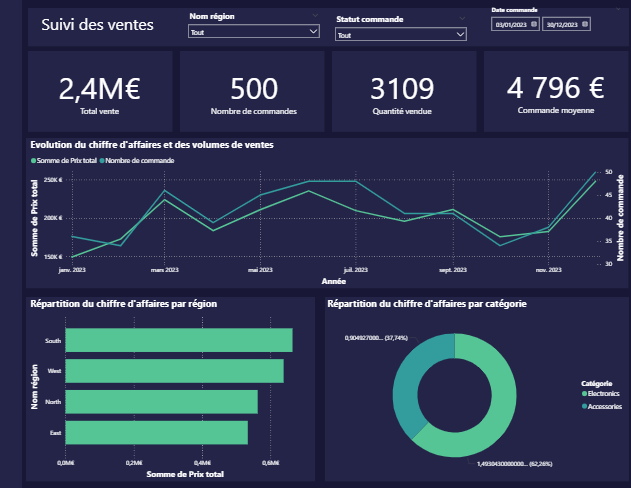

The page's visual inventory and layout, read from the dashboard file:
{"tool":"powerbi","page":{"name":"Suivi de ventes","canvas":[1280,2000],"ordinal":0},"visuals":[{"type":"shape","box":[9.9,0,43.9,1512.5],"z":0},{"type":"shape","box":[65.2,17,1202,76.5],"z":1000},{"type":"shape","box":[65.2,103.5,289.2,161.6],"z":2000},{"type":"shape","box":[370,103.5,289.2,161.6],"z":3000},{"type":"shape","box":[673.3,103.5,289.2,161.6],"z":4000},{"type":"shape","box":[978.1,103.5,289.2,161.6],"z":5000},{"type":"shape","box":[62.4,277.8,1204.9,300.5],"z":6000},{"type":"shape","box":[62.4,595.3,578.3,368.5],"z":7000},{"type":"shape","box":[659.1,595.3,608.1,368.5],"z":8000},{"type":"shape","box":[65.2,979.5,1209.1,533],"z":9000},{"type":"textbox","box":[87.9,21.3,552.8,66.6],"z":10000},{"type":"card","fields":{"Values":["Clients.Total vente"]},"box":[65.2,103.5,286.3,161.6],"z":11000},{"type":"card","fields":{"Values":["ventes.Nombre de commande"]},"box":[375.6,103.5,283.5,161.6],"z":12000},{"type":"card","fields":{"Values":["ventes.Commande moyenne"]},"box":[983.7,102.1,276.4,161.6],"z":13000},{"type":"card","fields":{"Values":["ventes.Quantité vendue"]},"box":[666.2,103.5,296.3,161.6],"z":14000},{"type":"lineChart","title":"Evolution du chiffre d''affaires et des volumes de ventes","fields":{"Category":["ventes.Date commande.Variation.Hiérarchie de dates.Année","ventes.Date commande.Variation.Hiérarchie de dates.Trimestre","ventes.Date commande.Variation.Hiérarchie de dates.Mois"],"Y":["Sum(ventes.Prix total)"],"Y2":["Mesures.Nombre de commande"]},"box":[65.2,277.8,1202,300.5],"z":15000},{"type":"barChart","title":"Répartition du chiffre d''affaires par région","fields":{"Category":["Régions.Nom région"],"Y":["Sum(ventes.Prix total)"]},"box":[65.2,595.3,575.5,368.5],"z":16000},{"type":"donutChart","title":"Répartition du chiffre d''affaires par catégorie","fields":{"Category":["Produits.Catégorie"],"Y":["Sum(ventes.Prix total)"]},"box":[659.1,595.3,608.1,368.5],"z":17000},{"type":"tableEx","fields":{"Values":["ventes.Date commande","Clients.Nom client","Produits.Nom produit","Produits.Catégorie","Sum(ventes.Prix total)","ventes.Statut commande"]},"box":[65.2,979.5,1202,533],"z":18000},{"type":"slicer","fields":{"Values":["Régions.Nom région"]},"box":[375.6,18.4,283.5,72.3],"z":19000},{"type":"slicer","fields":{"Values":["ventes.Statut commande"]},"box":[670.5,24.1,283.5,72.3],"z":20000},{"type":"slicer","fields":{"Values":["ventes.Date commande"]},"box":[980.9,8.5,283.5,83.6],"z":21000},{"type":"image","box":[1.4,15.6,62.4,59.5],"z":22000},{"type":"image","box":[2.8,75.1,62.4,69.5],"z":23000}]}

Visuals, with their boxes on the page's 1280x2000 design canvas (x1, y1, x2, y2). These are canvas units, not pixel positions in the 631x488 screenshot, which may show the page scaled, cropped or inside an application window:
shape: 10 0 54 1512
shape: 65 17 1267 94
shape: 65 104 354 265
shape: 370 104 659 265
shape: 673 104 962 265
shape: 978 104 1267 265
shape: 62 278 1267 578
shape: 62 595 641 964
shape: 659 595 1267 964
shape: 65 980 1274 1512
textbox: 88 21 641 88
card - Clients.Total vente: 65 104 352 265
card - ventes.Nombre de commande: 376 104 659 265
card - ventes.Commande moyenne: 984 102 1260 264
card - ventes.Quantité vendue: 666 104 962 265
"Evolution du chiffre d''affaires et des volumes de ventes" lineChart: 65 278 1267 578
"Répartition du chiffre d''affaires par région" barChart: 65 595 641 964
"Répartition du chiffre d''affaires par catégorie" donutChart: 659 595 1267 964
tableEx - ventes.Date commande x Clients.Nom client: 65 980 1267 1512
slicer - Régions.Nom région: 376 18 659 91
slicer - ventes.Statut commande: 670 24 954 96
slicer - ventes.Date commande: 981 8 1264 92
image: 1 16 64 75
image: 3 75 65 145
